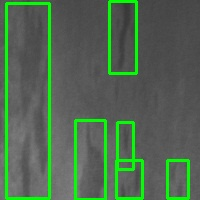inclusion: (6, 3, 49, 198), (75, 120, 105, 199), (109, 1, 136, 73), (116, 160, 142, 198), (167, 160, 188, 198), (117, 122, 133, 169)
